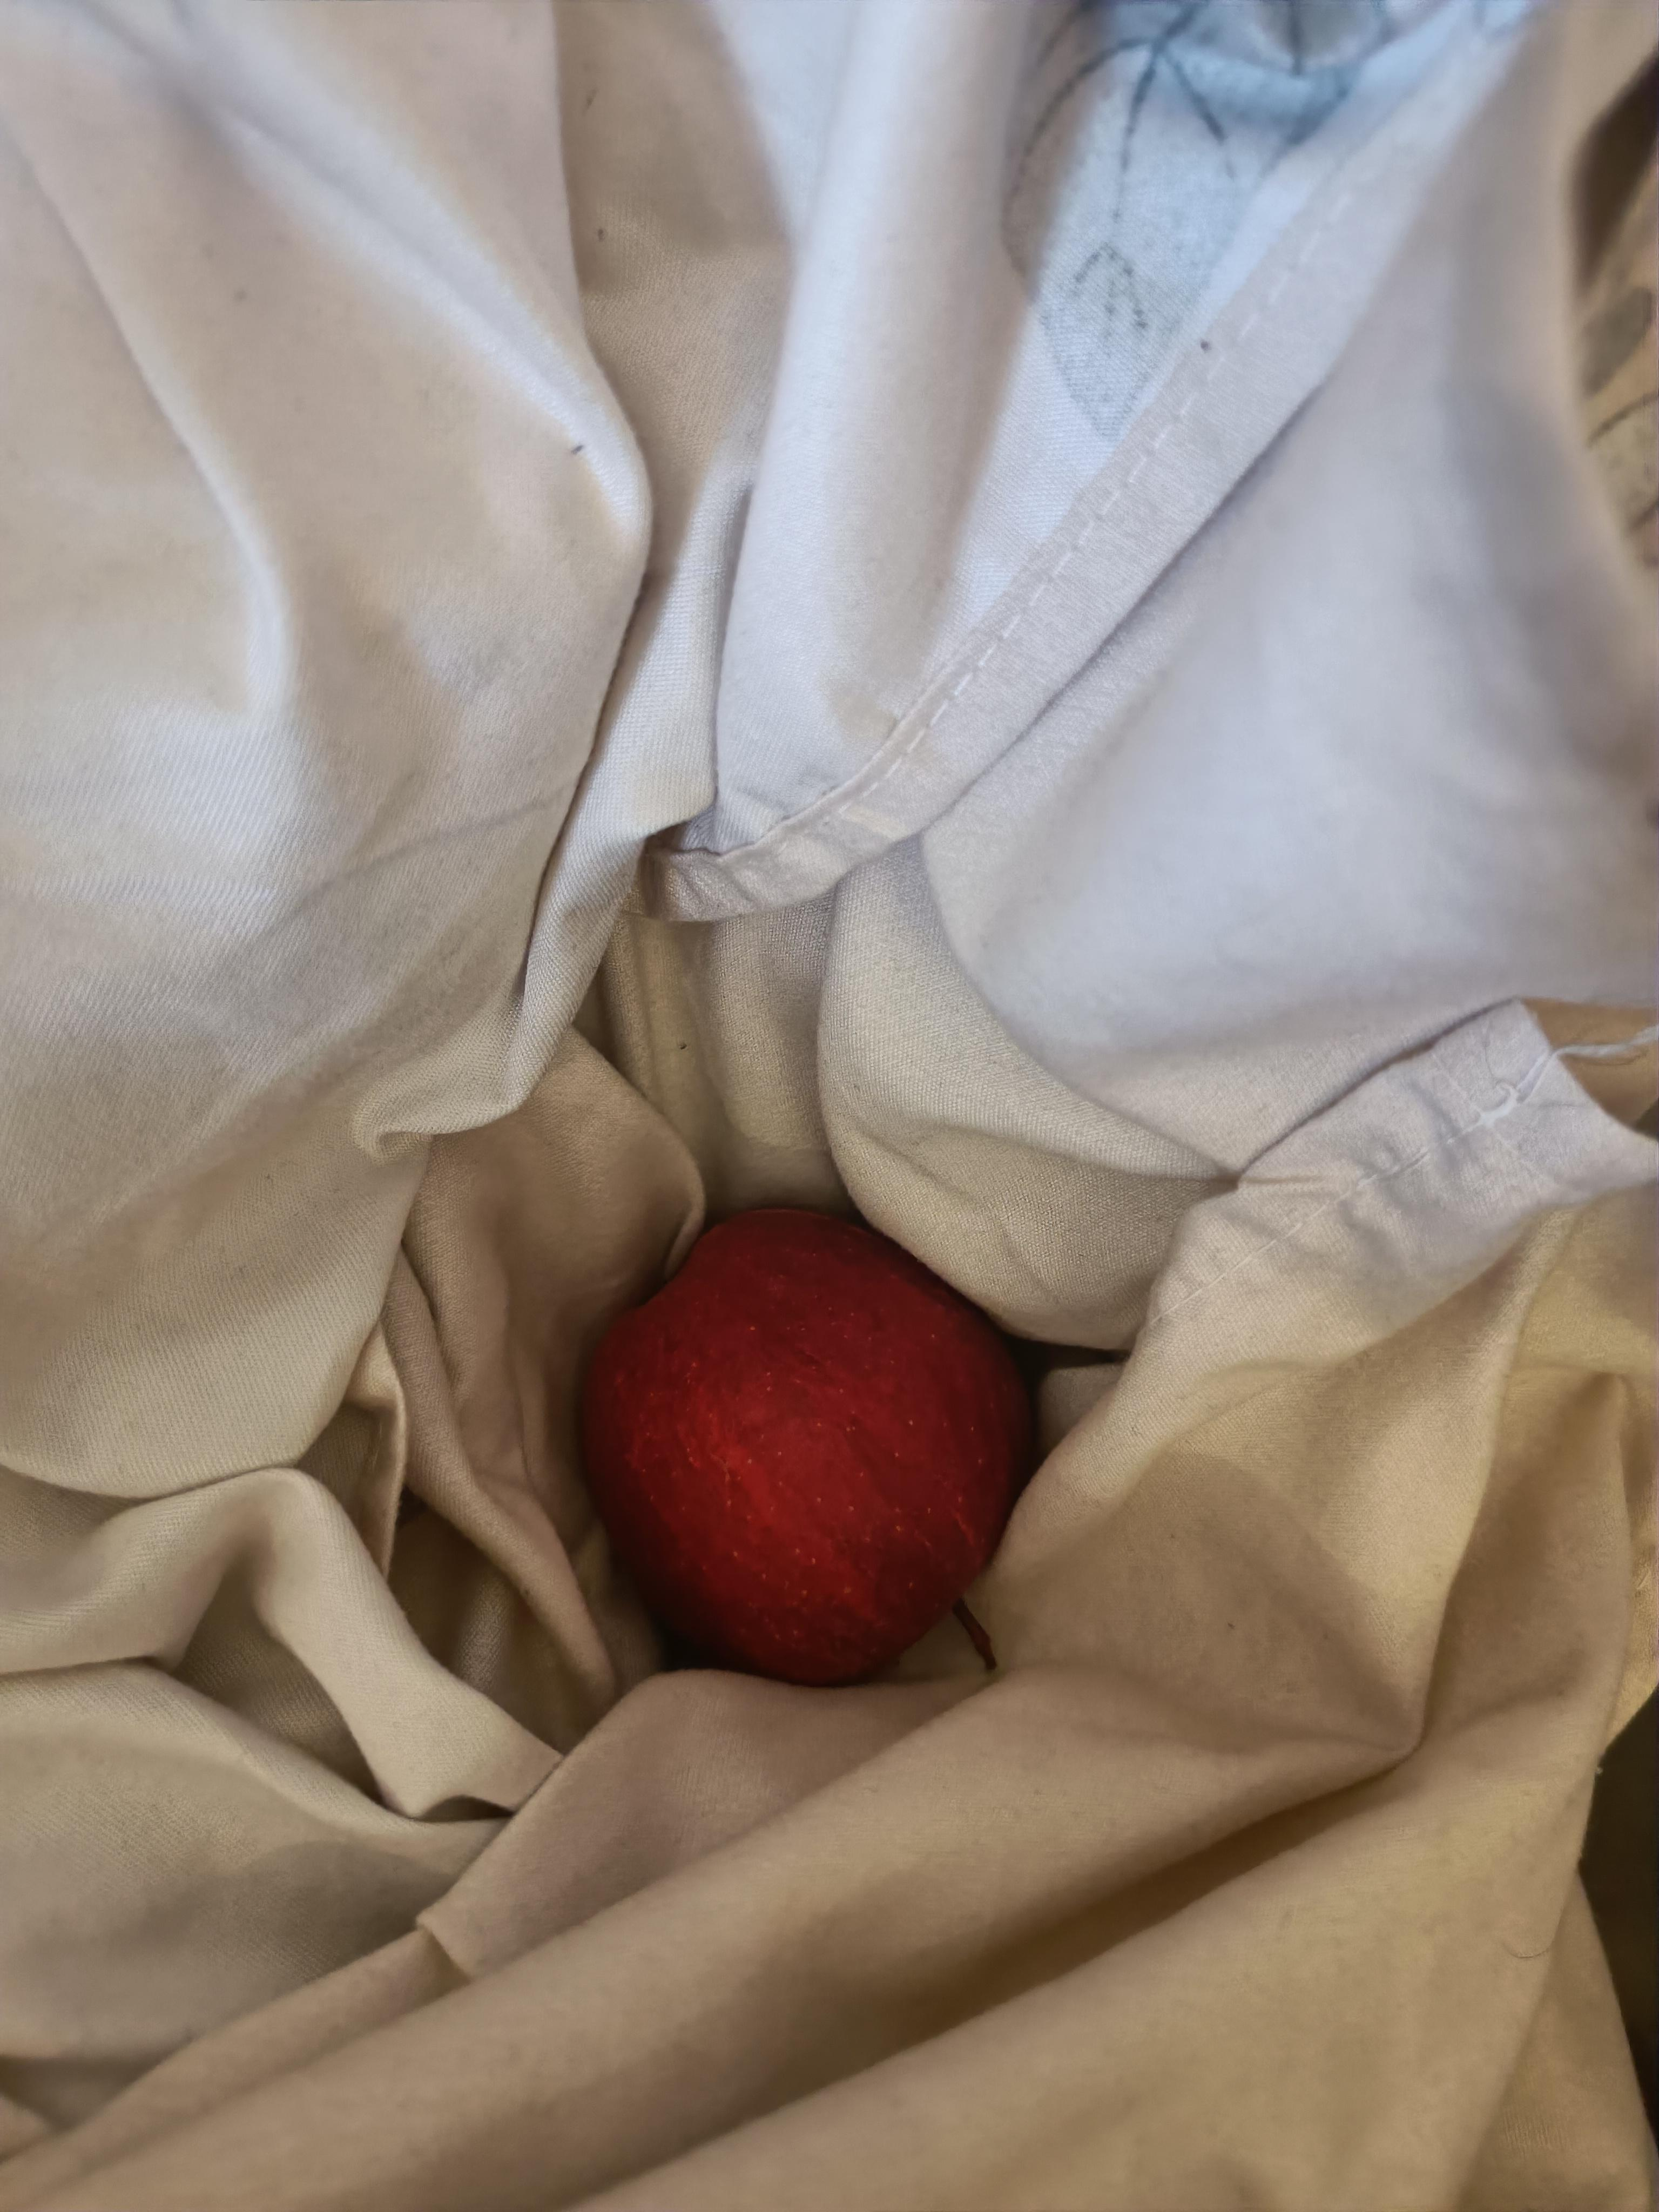Apple: (542, 1151, 1086, 1702)
